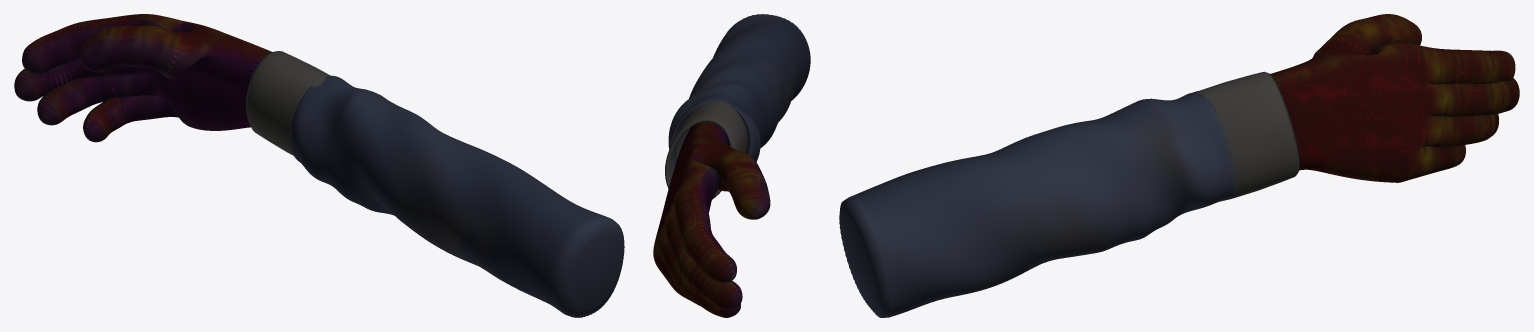
The model's file is fp_hand_R_relaxed.glb.
The picture shows the model from 3 angles, left to right: view 1: azimuth 30°, elevation 25°; view 2: azimuth 150°, elevation 25°; view 3: azimuth 270°, elevation 25°; orthographic projection. The views are drawn at different scales.
Visible parts, largest first — view 1: fp_hand_R_relaxed; view 2: fp_hand_R_relaxed; view 3: fp_hand_R_relaxed.
Boxes of the visible parts, x1,y1,x2,y2 form: fp_hand_R_relaxed: (14,14,624,317); fp_hand_R_relaxed: (653,14,810,317); fp_hand_R_relaxed: (839,14,1519,317).
Size of the model in its own units: 0.2468 by 0.1275 by 0.4329.
3 materials, 1 textured.
